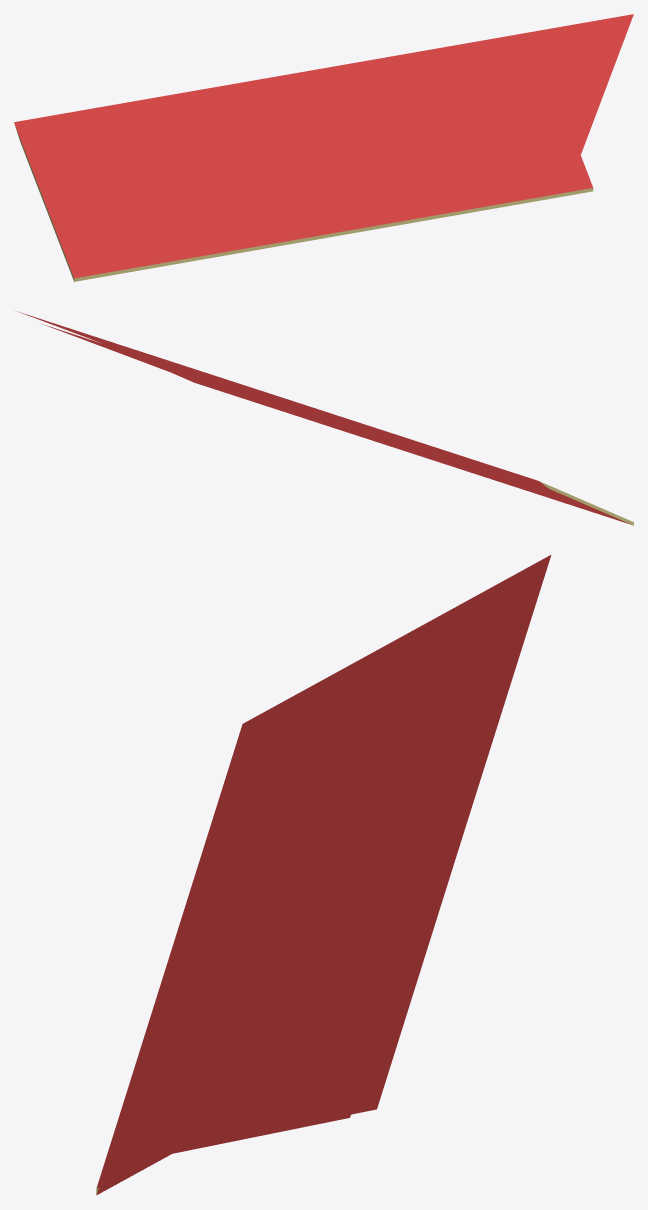
3 renders of one model, top to bottom at view 1: azimuth 30°, elevation 25°; view 2: azimuth 150°, elevation 25°; view 3: azimuth 270°, elevation 25°, orthographic. The views are drawn at different scales.
Bounding box in the file's own units: 17.83 × 5.99 × 2.81.
